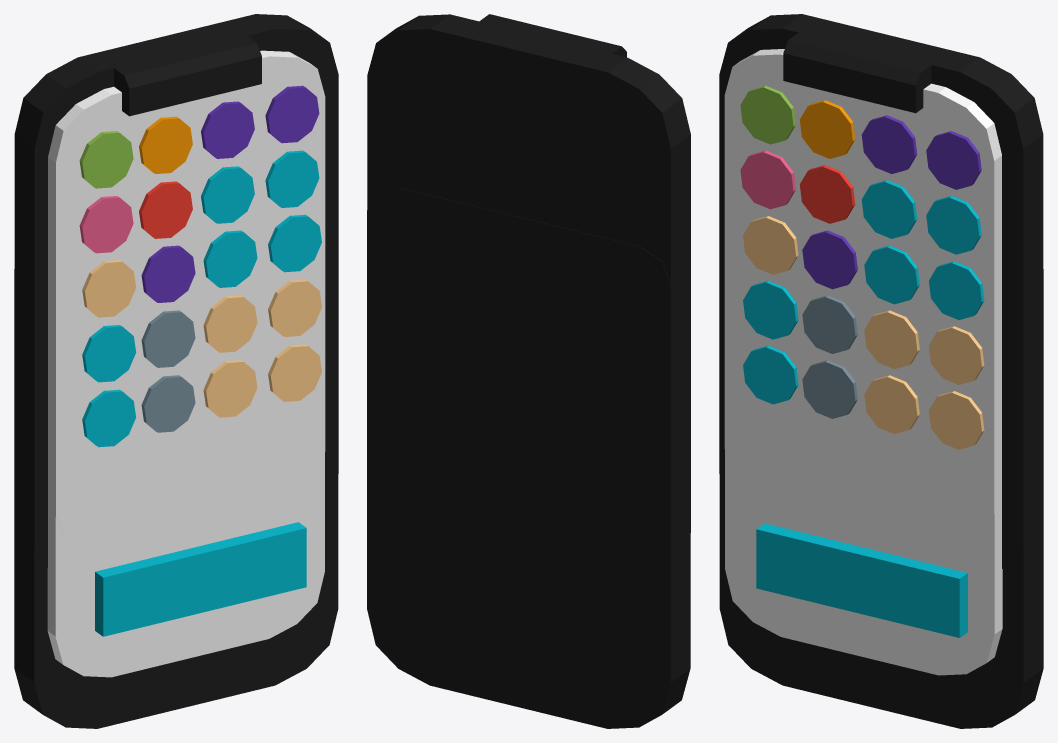
Rendered from phone.glb.
3 renders of one model, left to right at view 1: azimuth 30°, elevation 25°; view 2: azimuth 150°, elevation 25°; view 3: azimuth 330°, elevation 25°, orthographic.
Visible parts, largest first — view 1: group1038720536, group1762375091, group1684012463, group1679974935, group422914126, group620383674, group913641774, group1776844099, group1808723591, group1682291503, group632499203, group495345969 (+18 smaller); view 2: group1684012463, group1682291503, group1762375091, group913641774, group1808723591; view 3: group1038720536, group422914126, group913641774, group1679974935, group620383674, group1684012463, group1682291503, group1776844099, group1808723591, group1762375091, group777793134, group1714565761 (+18 smaller).
Boxes of the visible parts, <box> form: group1038720536: <box>48,86,279,536</box>; group1762375091: <box>14,19,254,567</box>; group1684012463: <box>14,269,283,728</box>; group1679974935: <box>47,278,278,677</box>; group422914126: <box>102,50,325,488</box>; group620383674: <box>95,522,306,636</box>; group913641774: <box>99,14,338,499</box>; group1776844099: <box>101,453,324,643</box>; group1808723591: <box>114,35,261,116</box>; group1682291503: <box>88,475,338,709</box>; group632499203: <box>265,150,319,207</box>; group495345969: <box>82,389,135,447</box>; group1684012463: <box>419,192,690,728</box>; group1682291503: <box>367,187,618,723</box>; group1762375091: <box>419,19,690,546</box>; group913641774: <box>367,14,618,240</box>; group1808723591: <box>479,14,626,57</box>; group1038720536: <box>724,49,947,530</box>; group422914126: <box>771,74,1001,534</box>; group913641774: <box>803,19,1043,568</box>; group1679974935: <box>725,450,948,670</box>; group620383674: <box>756,523,967,637</box>; group1684012463: <box>719,475,970,723</box>; group1682291503: <box>776,269,1043,728</box>; group1776844099: <box>771,313,1002,675</box>; group1808723591: <box>783,32,931,113</box>; group1762375091: <box>719,14,957,488</box>; group777793134: <box>740,85,795,144</box>; group1714565761: <box>799,100,855,158</box>.
Bounding box in the file's own units: 0.3435 × 0.7096 × 0.0708.
